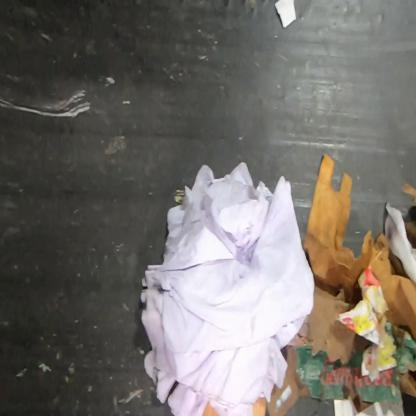cardboard: (302, 151, 415, 345), (266, 285, 415, 415)
